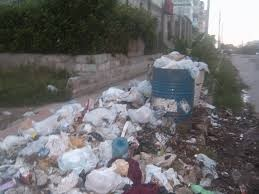rubble: (12, 50, 223, 194)
